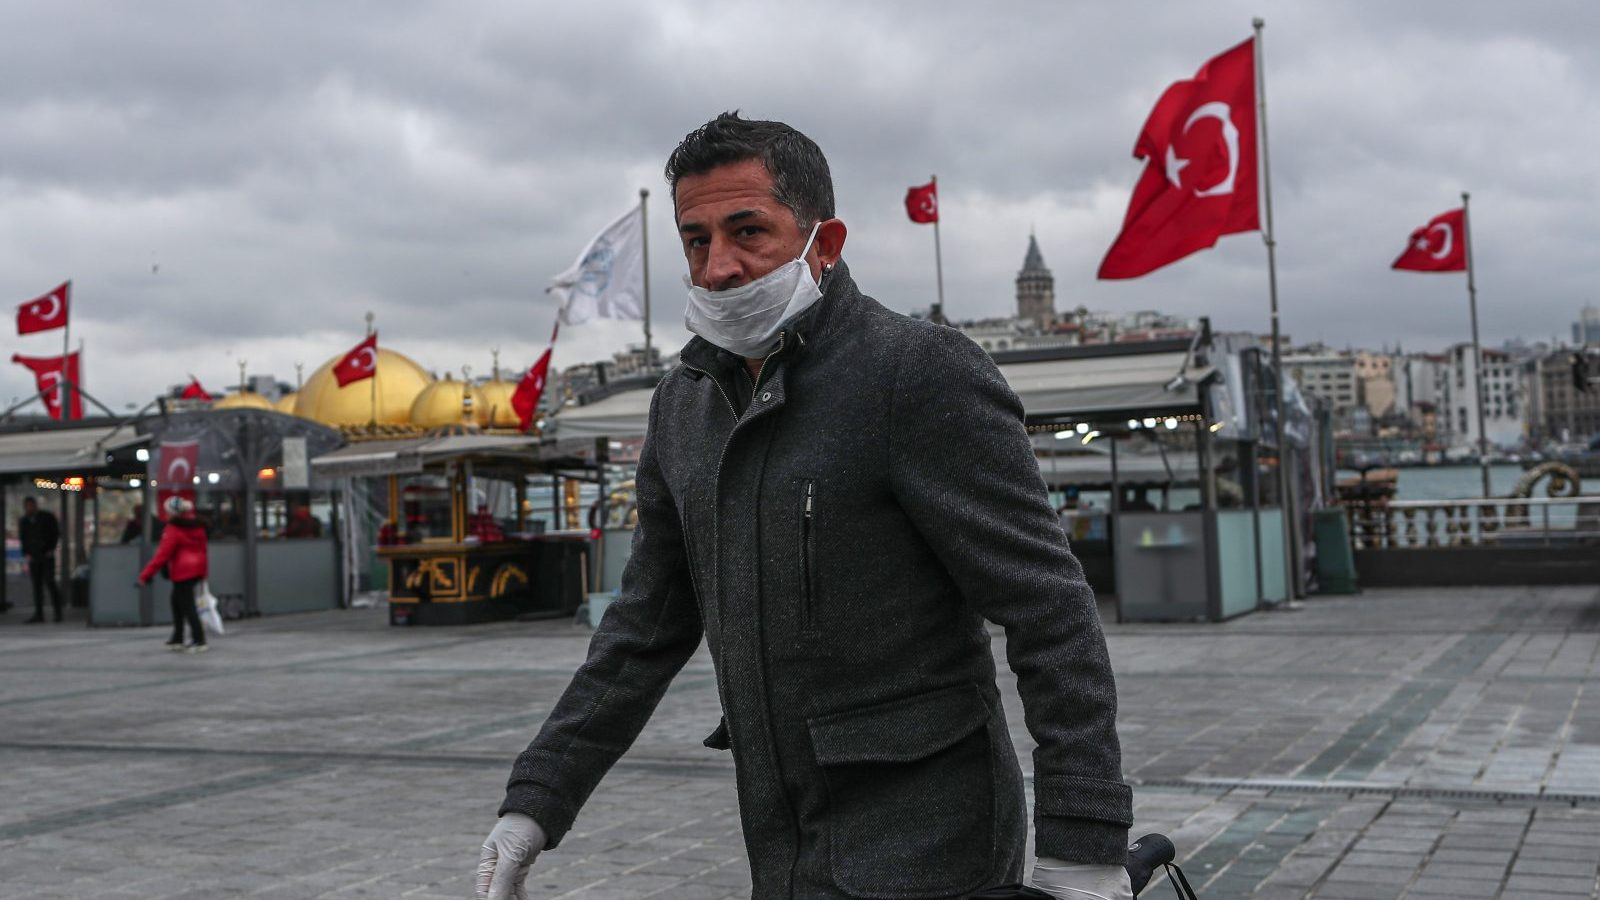with_incorrect_mask: (672, 197, 815, 346)
